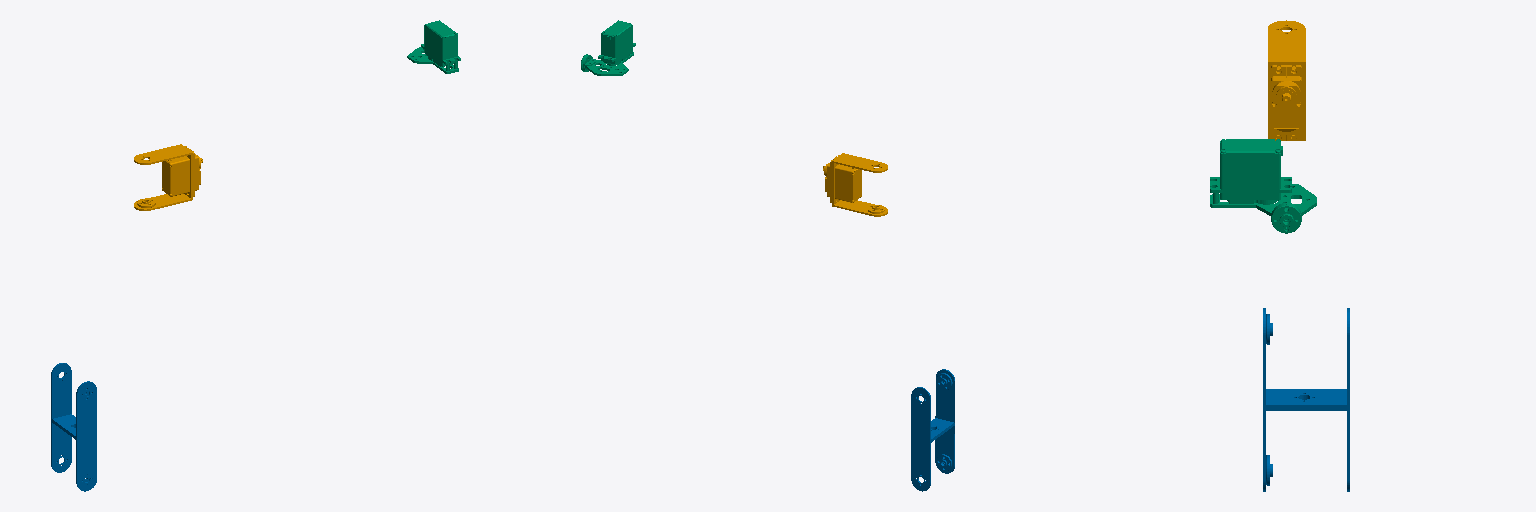
URDF robot description (panda):
<?xml version="1.0" ?>
<!-- =================================================================================== -->
<!-- |    This document was autogenerated by xacro from /opt/ros/noetic/share/franka_description/robots/panda/panda.urdf.xacro | -->
<!-- |    EDITING THIS FILE BY HAND IS NOT RECOMMENDED                                 | -->
<!-- =================================================================================== -->
<robot name="panda">
    <!-- sub-link defining detailed meshes for collision with environment -->
    <link name="panda_link0">
        <visual>
            <geometry>
                <mesh filename="package://franka_description/meshes/visual/link0.dae" />
            </geometry>
        </visual>
        <collision>
            <geometry>
                <mesh filename="package://franka_description/meshes/collision/link0.stl" />
            </geometry>
        </collision>
        <inertial>
            <mass value="0.1" />
            <origin xyz="0 0 0" rpy="0 0 0" />
            <inertia ixx="0.03" iyy="0.03" izz="0.03" ixy="0.0" ixz="0.0" iyz="0.0" />
        </inertial>
    </link>
    <!-- sub-link defining coarse geometries of real robot's internal self-collision -->
    <link name="panda_link0_sc">
        <collision>
            <origin rpy="0 1.5707963267948966 0" xyz="-0.075 0 0.06" />
            <geometry>
                <cylinder length="0.03" radius="0.09" />
            </geometry>
        </collision>
        <collision>
            <origin xyz="-0.06 0 0.06" />
            <geometry>
                <sphere radius="0.09" />
            </geometry>
        </collision>
        <collision>
            <origin xyz="-0.09 0 0.06" />
            <geometry>
                <sphere radius="0.09" />
            </geometry>
        </collision>
        <inertial>
            <mass value="0.1" />
            <origin xyz="0 0 0" rpy="0 0 0" />
            <inertia ixx="0.03" iyy="0.03" izz="0.03" ixy="0.0" ixz="0.0" iyz="0.0" />
        </inertial>
    </link>
    <!-- fixed joint between both sub-links -->
    <joint name="panda_link0_sc_joint" type="fixed">
        <origin rpy="0 0 0" />
        <parent link="panda_link0" />
        <child link="panda_link0_sc" />
    </joint>
    <!-- sub-link defining detailed meshes for collision with environment -->
    <link name="panda_link1">
        <visual>
            <geometry>
                <mesh filename="package://franka_description/meshes/visual/link1.dae" />
            </geometry>
        </visual>
        <collision>
            <geometry>
                <mesh filename="package://franka_description/meshes/collision/link1.stl" />
            </geometry>
        </collision>
        <inertial>
            <mass value="0.1" />
            <origin xyz="0 0 0" rpy="0 0 0" />
            <inertia ixx="0.03" iyy="0.03" izz="0.03" ixy="0.0" ixz="0.0" iyz="0.0" />
        </inertial>
    </link>
    <!-- sub-link defining coarse geometries of real robot's internal self-collision -->
    <link name="panda_link1_sc">
        <collision>
            <origin rpy="0 0 0" xyz="0 0 -0.1915" />
            <geometry>
                <cylinder length="0.283" radius="0.09" />
            </geometry>
        </collision>
        <collision>
            <origin xyz="0 0 -0.05000000000000002" />
            <geometry>
                <sphere radius="0.09" />
            </geometry>
        </collision>
        <collision>
            <origin xyz="0 0 -0.33299999999999996" />
            <geometry>
                <sphere radius="0.09" />
            </geometry>
        </collision>
        <inertial>
            <mass value="0.1" />
            <origin xyz="0 0 0" rpy="0 0 0" />
            <inertia ixx="0.03" iyy="0.03" izz="0.03" ixy="0.0" ixz="0.0" iyz="0.0" />
        </inertial>
    </link>
    <!-- fixed joint between both sub-links -->
    <joint name="panda_link1_sc_joint" type="fixed">
        <origin rpy="0 0 0" />
        <parent link="panda_link1" />
        <child link="panda_link1_sc" />
    </joint>
    <joint name="panda_joint1" type="revolute">
        <origin rpy="0 0 0" xyz="0 0 0.333" />
        <parent link="panda_link0" />
        <child link="panda_link1" />
        <axis xyz="0 0 1" />
        <limit effort="87.0" lower="-2.8973" upper="2.8973" velocity="2.175" />
        <safety_controller k_position="100.0" k_velocity="40.0" soft_lower_limit="-2.8973" soft_upper_limit="2.8973" />
        <dynamics D="1" K="7000" damping="0.003" friction="0.0" mu_coulomb="0" mu_viscous="16" />
    </joint>
    <!-- sub-link defining detailed meshes for collision with environment -->
    <link name="panda_link2">
        <visual>
            <geometry>
                <mesh filename="package://franka_description/meshes/visual/link2.dae" />
            </geometry>
        </visual>
        <collision>
            <geometry>
                <mesh filename="package://franka_description/meshes/collision/link2.stl" />
            </geometry>
        </collision>
        <inertial>
            <mass value="0.1" />
            <origin xyz="0 0 0" rpy="0 0 0" />
            <inertia ixx="0.03" iyy="0.03" izz="0.03" ixy="0.0" ixz="0.0" iyz="0.0" />
        </inertial>
    </link>
    <!-- sub-link defining coarse geometries of real robot's internal self-collision -->
    <link name="panda_link2_sc">
        <collision>
            <origin rpy="0 0 0" xyz="0 0 0" />
            <geometry>
                <cylinder length="0.12" radius="0.09" />
            </geometry>
        </collision>
        <collision>
            <origin xyz="0 0 0.06" />
            <geometry>
                <sphere radius="0.09" />
            </geometry>
        </collision>
        <collision>
            <origin xyz="0 0 -0.06" />
            <geometry>
                <sphere radius="0.09" />
            </geometry>
        </collision>
        <inertial>
            <mass value="0.1" />
            <origin xyz="0 0 0" rpy="0 0 0" />
            <inertia ixx="0.03" iyy="0.03" izz="0.03" ixy="0.0" ixz="0.0" iyz="0.0" />
        </inertial>
    </link>
    <!-- fixed joint between both sub-links -->
    <joint name="panda_link2_sc_joint" type="fixed">
        <origin rpy="0 0 0" />
        <parent link="panda_link2" />
        <child link="panda_link2_sc" />
    </joint>
    <joint name="panda_joint2" type="revolute">
        <origin rpy="-1.5707963267948966 0 0" xyz="0 0 0" />
        <parent link="panda_link1" />
        <child link="panda_link2" />
        <axis xyz="0 0 1" />
        <limit effort="87.0" lower="-1.7628" upper="1.7628" velocity="2.175" />
        <safety_controller k_position="100.0" k_velocity="40.0" soft_lower_limit="-1.7628" soft_upper_limit="1.7628" />
        <dynamics D="1" K="7000" damping="0.003" friction="0.0" mu_coulomb="0" mu_viscous="16" />
    </joint>
    <!-- sub-link defining detailed meshes for collision with environment -->
    <link name="panda_link3">
        <visual>
            <geometry>
                <mesh filename="package://franka_description/meshes/visual/link3.dae" />
            </geometry>
        </visual>
        <collision>
            <geometry>
                <mesh filename="package://franka_description/meshes/collision/link3.stl" />
            </geometry>
        </collision>
        <inertial>
            <mass value="0.1" />
            <origin xyz="0 0 0" rpy="0 0 0" />
            <inertia ixx="0.03" iyy="0.03" izz="0.03" ixy="0.0" ixz="0.0" iyz="0.0" />
        </inertial>
    </link>
    <!-- sub-link defining coarse geometries of real robot's internal self-collision -->
    <link name="panda_link3_sc">
        <collision>
            <origin rpy="0 0 0" xyz="0 0 -0.145" />
            <geometry>
                <cylinder length="0.15" radius="0.09" />
            </geometry>
        </collision>
        <collision>
            <origin xyz="0 0 -0.06999999999999999" />
            <geometry>
                <sphere radius="0.09" />
            </geometry>
        </collision>
        <collision>
            <origin xyz="0 0 -0.21999999999999997" />
            <geometry>
                <sphere radius="0.09" />
            </geometry>
        </collision>
        <inertial>
            <mass value="0.1" />
            <origin xyz="0 0 0" rpy="0 0 0" />
            <inertia ixx="0.03" iyy="0.03" izz="0.03" ixy="0.0" ixz="0.0" iyz="0.0" />
        </inertial>
    </link>
    <!-- fixed joint between both sub-links -->
    <joint name="panda_link3_sc_joint" type="fixed">
        <origin rpy="0 0 0" />
        <parent link="panda_link3" />
        <child link="panda_link3_sc" />
    </joint>
    <joint name="panda_joint3" type="revolute">
        <origin rpy="1.5707963267948966 0 0" xyz="0 -0.316 0" />
        <parent link="panda_link2" />
        <child link="panda_link3" />
        <axis xyz="0 0 1" />
        <limit effort="87.0" lower="-2.8973" upper="2.8973" velocity="2.175" />
        <safety_controller k_position="100.0" k_velocity="40.0" soft_lower_limit="-2.8973" soft_upper_limit="2.8973" />
        <dynamics D="1" K="7000" damping="0.003" friction="0.0" mu_coulomb="0" mu_viscous="16" />
    </joint>
    <!-- sub-link defining detailed meshes for collision with environment -->
    <link name="panda_link4">
        <visual>
            <geometry>
                <mesh filename="package://franka_description/meshes/visual/link4.dae" />
            </geometry>
        </visual>
        <collision>
            <geometry>
                <mesh filename="package://franka_description/meshes/collision/link4.stl" />
            </geometry>
        </collision>
        <inertial>
            <mass value="0.1" />
            <origin xyz="0 0 0" rpy="0 0 0" />
            <inertia ixx="0.03" iyy="0.03" izz="0.03" ixy="0.0" ixz="0.0" iyz="0.0" />
        </inertial>
    </link>
    <!-- sub-link defining coarse geometries of real robot's internal self-collision -->
    <link name="panda_link4_sc">
        <collision>
            <origin rpy="0 0 0" xyz="0 0 0" />
            <geometry>
                <cylinder length="0.12" radius="0.09" />
            </geometry>
        </collision>
        <collision>
            <origin xyz="0 0 0.06" />
            <geometry>
                <sphere radius="0.09" />
            </geometry>
        </collision>
        <collision>
            <origin xyz="0 0 -0.06" />
            <geometry>
                <sphere radius="0.09" />
            </geometry>
        </collision>
        <inertial>
            <mass value="0.1" />
            <origin xyz="0 0 0" rpy="0 0 0" />
            <inertia ixx="0.03" iyy="0.03" izz="0.03" ixy="0.0" ixz="0.0" iyz="0.0" />
        </inertial>
    </link>
    <!-- fixed joint between both sub-links -->
    <joint name="panda_link4_sc_joint" type="fixed">
        <origin rpy="0 0 0" />
        <parent link="panda_link4" />
        <child link="panda_link4_sc" />
    </joint>
    <joint name="panda_joint4" type="revolute">
        <origin rpy="1.5707963267948966 0 0" xyz="0.0825 0 0" />
        <parent link="panda_link3" />
        <child link="panda_link4" />
        <axis xyz="0 0 1" />
        <limit effort="87.0" lower="-3.0718" upper="-0.0698" velocity="2.175" />
        <safety_controller k_position="100.0" k_velocity="40.0" soft_lower_limit="-3.0718" soft_upper_limit="-0.0698" />
        <dynamics D="1" K="7000" damping="0.003" friction="0.0" mu_coulomb="0" mu_viscous="16" />
    </joint>
    <!-- sub-link defining detailed meshes for collision with environment -->
    <link name="panda_link5">
        <visual>
            <geometry>
                <mesh filename="package://franka_description/meshes/visual/link5.dae" />
            </geometry>
        </visual>
        <collision>
            <geometry>
                <mesh filename="package://franka_description/meshes/collision/link5.stl" />
            </geometry>
        </collision>
        <inertial>
            <mass value="0.1" />
            <origin xyz="0 0 0" rpy="0 0 0" />
            <inertia ixx="0.03" iyy="0.03" izz="0.03" ixy="0.0" ixz="0.0" iyz="0.0" />
        </inertial>
    </link>
    <!-- sub-link defining coarse geometries of real robot's internal self-collision -->
    <link name="panda_link5_sc">
        <collision>
            <origin rpy="0 0 0" xyz="0 0 -0.26" />
            <geometry>
                <cylinder length="0.1" radius="0.09" />
            </geometry>
        </collision>
        <collision>
            <origin xyz="0 0 -0.21000000000000002" />
            <geometry>
                <sphere radius="0.09" />
            </geometry>
        </collision>
        <collision>
            <origin xyz="0 0 -0.31" />
            <geometry>
                <sphere radius="0.09" />
            </geometry>
        </collision>
        <collision>
            <origin rpy="0 0 0.08" xyz="0 0.08 -0.13" />
            <geometry>
                <cylinder length="0.14" radius="0.055" />
            </geometry>
        </collision>
        <collision>
            <origin xyz="0 0.08 -0.06" />
            <geometry>
                <sphere radius="0.055" />
            </geometry>
        </collision>
        <collision>
            <origin xyz="0 0.08 -0.2" />
            <geometry>
                <sphere radius="0.055" />
            </geometry>
        </collision>
        <inertial>
            <mass value="0.1" />
            <origin xyz="0 0 0" rpy="0 0 0" />
            <inertia ixx="0.03" iyy="0.03" izz="0.03" ixy="0.0" ixz="0.0" iyz="0.0" />
        </inertial>
    </link>
    <!-- fixed joint between both sub-links -->
    <joint name="panda_link5_sc_joint" type="fixed">
        <origin rpy="0 0 0" />
        <parent link="panda_link5" />
        <child link="panda_link5_sc" />
    </joint>
    <joint name="panda_joint5" type="revolute">
        <origin rpy="-1.5707963267948966 0 0" xyz="-0.0825 0.384 0" />
        <parent link="panda_link4" />
        <child link="panda_link5" />
        <axis xyz="0 0 1" />
        <limit effort="12.0" lower="-2.8973" upper="2.8973" velocity="2.61" />
        <safety_controller k_position="100.0" k_velocity="40.0" soft_lower_limit="-2.8973" soft_upper_limit="2.8973" />
        <dynamics D="1" K="7000" damping="0.003" friction="0.0" mu_coulomb="0" mu_viscous="16" />
    </joint>
    <!-- sub-link defining detailed meshes for collision with environment -->
    <link name="panda_link6">
        <visual>
            <geometry>
                <mesh filename="package://franka_description/meshes/visual/link6.dae" />
            </geometry>
        </visual>
        <collision>
            <geometry>
                <mesh filename="package://franka_description/meshes/collision/link6.stl" />
            </geometry>
        </collision>
        <inertial>
            <mass value="0.1" />
            <origin xyz="0 0 0" rpy="0 0 0" />
            <inertia ixx="0.03" iyy="0.03" izz="0.03" ixy="0.0" ixz="0.0" iyz="0.0" />
        </inertial>
    </link>
    <!-- sub-link defining coarse geometries of real robot's internal self-collision -->
    <link name="panda_link6_sc">
        <collision>
            <origin rpy="0 0 0" xyz="0 0 -0.03" />
            <geometry>
                <cylinder length="0.08" radius="0.08" />
            </geometry>
        </collision>
        <collision>
            <origin xyz="0 0 0.010000000000000002" />
            <geometry>
                <sphere radius="0.08" />
            </geometry>
        </collision>
        <collision>
            <origin xyz="0 0 -0.07" />
            <geometry>
                <sphere radius="0.08" />
            </geometry>
        </collision>
        <inertial>
            <mass value="0.1" />
            <origin xyz="0 0 0" rpy="0 0 0" />
            <inertia ixx="0.03" iyy="0.03" izz="0.03" ixy="0.0" ixz="0.0" iyz="0.0" />
        </inertial>
    </link>
    <!-- fixed joint between both sub-links -->
    <joint name="panda_link6_sc_joint" type="fixed">
        <origin rpy="0 0 0" />
        <parent link="panda_link6" />
        <child link="panda_link6_sc" />
    </joint>
    <joint name="panda_joint6" type="revolute">
        <origin rpy="1.5707963267948966 0 0" xyz="0 0 0" />
        <parent link="panda_link5" />
        <child link="panda_link6" />
        <axis xyz="0 0 1" />
        <limit effort="12.0" lower="-0.0175" upper="3.7525" velocity="2.61" />
        <safety_controller k_position="100.0" k_velocity="40.0" soft_lower_limit="-0.0175" soft_upper_limit="3.7525" />
        <dynamics D="1" K="7000" damping="0.003" friction="0.0" mu_coulomb="0" mu_viscous="16" />
    </joint>
    <!-- sub-link defining detailed meshes for collision with environment -->
    <link name="panda_link7">
        <visual>
            <geometry>
                <mesh filename="package://franka_description/meshes/visual/link7.dae" />
            </geometry>
        </visual>
        <collision>
            <geometry>
                <mesh filename="package://franka_description/meshes/collision/link7.stl" />
            </geometry>
        </collision>
        <inertial>
            <mass value="0.1" />
            <origin xyz="0 0 0" rpy="0 0 0" />
            <inertia ixx="0.03" iyy="0.03" izz="0.03" ixy="0.0" ixz="0.0" iyz="0.0" />
        </inertial>
    </link>
    <!-- sub-link defining coarse geometries of real robot's internal self-collision -->
    <link name="panda_link7_sc">
        <collision>
            <origin rpy="0 0 0" xyz="0 0 0.01" />
            <geometry>
                <cylinder length="0.14" radius="0.07" />
            </geometry>
        </collision>
        <collision>
            <origin xyz="0 0 0.08" />
            <geometry>
                <sphere radius="0.07" />
            </geometry>
        </collision>
        <collision>
            <origin xyz="0 0 -0.060000000000000005" />
            <geometry>
                <sphere radius="0.07" />
            </geometry>
        </collision>
        <collision>
            <origin rpy="0 1.5707963267948966 0" xyz="0.06 0 0.082" />
            <geometry>
                <cylinder length="0.01" radius="0.06" />
            </geometry>
        </collision>
        <collision>
            <origin xyz="0.065 0 0.082" />
            <geometry>
                <sphere radius="0.06" />
            </geometry>
        </collision>
        <collision>
            <origin xyz="0.055 0 0.082" />
            <geometry>
                <sphere radius="0.06" />
            </geometry>
        </collision>
        <inertial>
            <mass value="0.1" />
            <origin xyz="0 0 0" rpy="0 0 0" />
            <inertia ixx="0.03" iyy="0.03" izz="0.03" ixy="0.0" ixz="0.0" iyz="0.0" />
        </inertial>
    </link>
    <!-- fixed joint between both sub-links -->
    <joint name="panda_link7_sc_joint" type="fixed">
        <origin rpy="0 0 0.7853981633974483" />
        <parent link="panda_link7" />
        <child link="panda_link7_sc" />
    </joint>
    <joint name="panda_joint7" type="revolute">
        <origin rpy="1.5707963267948966 0 0" xyz="0.088 0 0" />
        <parent link="panda_link6" />
        <child link="panda_link7" />
        <axis xyz="0 0 1" />
        <limit effort="12.0" lower="-2.8973" upper="2.8973" velocity="2.61" />
        <safety_controller k_position="100.0" k_velocity="40.0" soft_lower_limit="-2.8973" soft_upper_limit="2.8973" />
        <dynamics D="1" K="7000" damping="0.003" friction="0.0" mu_coulomb="0" mu_viscous="16" />
    </joint>
    <link name="panda_link8" />
    <joint name="panda_joint8" type="fixed">
        <origin rpy="0 0 0" xyz="0 0 0.107" />
        <parent link="panda_link7" />
        <child link="panda_link8" />
    </joint>
    <transmission name="trans_panda_joint1">
        <type>transmission_interface/SimpleTransmission</type>
        <joint name="panda_joint1">
            <hardwareInterface>hardware_interface/PositionJointInterface</hardwareInterface>
        </joint>
        <actuator name="panda_joint1_motor">
            <hardwareInterface>hardware_interface/PositionJointInterface</hardwareInterface>
            <mechanicalReduction>1</mechanicalReduction>
        </actuator>
    </transmission>
    <transmission name="trans_panda_joint2">
        <type>transmission_interface/SimpleTransmission</type>
        <joint name="panda_joint2">
            <hardwareInterface>hardware_interface/PositionJointInterface</hardwareInterface>
        </joint>
        <actuator name="panda_joint2_motor">
            <hardwareInterface>hardware_interface/PositionJointInterface</hardwareInterface>
            <mechanicalReduction>1</mechanicalReduction>
        </actuator>
    </transmission>
    <transmission name="trans_panda_joint3">
        <type>transmission_interface/SimpleTransmission</type>
        <joint name="panda_joint3">
            <hardwareInterface>hardware_interface/PositionJointInterface</hardwareInterface>
        </joint>
        <actuator name="panda_joint3_motor">
            <hardwareInterface>hardware_interface/PositionJointInterface</hardwareInterface>
            <mechanicalReduction>1</mechanicalReduction>
        </actuator>
    </transmission>
    <transmission name="trans_panda_joint4">
        <type>transmission_interface/SimpleTransmission</type>
        <joint name="panda_joint4">
            <hardwareInterface>hardware_interface/PositionJointInterface</hardwareInterface>
        </joint>
        <actuator name="panda_joint4_motor">
            <hardwareInterface>hardware_interface/PositionJointInterface</hardwareInterface>
            <mechanicalReduction>1</mechanicalReduction>
        </actuator>
    </transmission>
    <transmission name="trans_panda_joint5">
        <type>transmission_interface/SimpleTransmission</type>
        <joint name="panda_joint5">
            <hardwareInterface>hardware_interface/PositionJointInterface</hardwareInterface>
        </joint>
        <actuator name="panda_joint5_motor">
            <hardwareInterface>hardware_interface/PositionJointInterface</hardwareInterface>
            <mechanicalReduction>1</mechanicalReduction>
        </actuator>
    </transmission>
    <transmission name="trans_panda_joint6">
        <type>transmission_interface/SimpleTransmission</type>
        <joint name="panda_joint6">
            <hardwareInterface>hardware_interface/PositionJointInterface</hardwareInterface>
        </joint>
        <actuator name="panda_joint6_motor">
            <hardwareInterface>hardware_interface/PositionJointInterface</hardwareInterface>
            <mechanicalReduction>1</mechanicalReduction>
        </actuator>
    </transmission>
    <transmission name="trans_panda_joint7">
        <type>transmission_interface/SimpleTransmission</type>
        <joint name="panda_joint7">
            <hardwareInterface>hardware_interface/EffortJointInterface</hardwareInterface>
        </joint>
        <actuator name="panda_joint7_motor">
            <hardwareInterface>hardware_interface/EffortJointInterface</hardwareInterface>
            <mechanicalReduction>1</mechanicalReduction>
        </actuator>
    </transmission>
    <gazebo>
        <plugin name="gazebo_ros_control">
            <robotNamespace>/</robotNamespace>
        </plugin>
    </gazebo>
</robot>

--- Facts derived from the render (not from the file) ---
Views: 3 orthographic renders of the robot side by side, from view 1: azimuth 30°, elevation 25°; view 2: azimuth 150°, elevation 25°; view 3: azimuth 270°, elevation 25°.
Robot: panda — 17 links, 16 joints (7 revolute, 9 fixed); root link panda_link0; default pose: joints at zero except 1 at the middle of their limits (panda_joint4 = -1.57).
Links seen in each view (by area): view 1: panda_link2, panda_link4, panda_link5; view 2: panda_link2, panda_link4, panda_link5; view 3: panda_link5, panda_link4, panda_link2.
Boxes of the visible links, x1=… form: panda_link2: x1=51, y1=363, x2=96, y2=491; panda_link4: x1=134, y1=144, x2=202, y2=210; panda_link5: x1=407, y1=20, x2=460, y2=73; panda_link2: x1=911, y1=369, x2=954, y2=491; panda_link4: x1=823, y1=153, x2=887, y2=216; panda_link5: x1=581, y1=20, x2=635, y2=75; panda_link5: x1=1210, y1=139, x2=1316, y2=233; panda_link4: x1=1268, y1=20, x2=1305, y2=140; panda_link2: x1=1263, y1=308, x2=1349, y2=491.
Bounding box of the posed robot: 0.4803 × 0.0921 × 0.4532 m (x, y, z).
Meshes: 8 distinct files referenced, 3 mesh visuals loaded (3 Collada DAE); not drawn: 5 (reference not matched to a file when rendering).